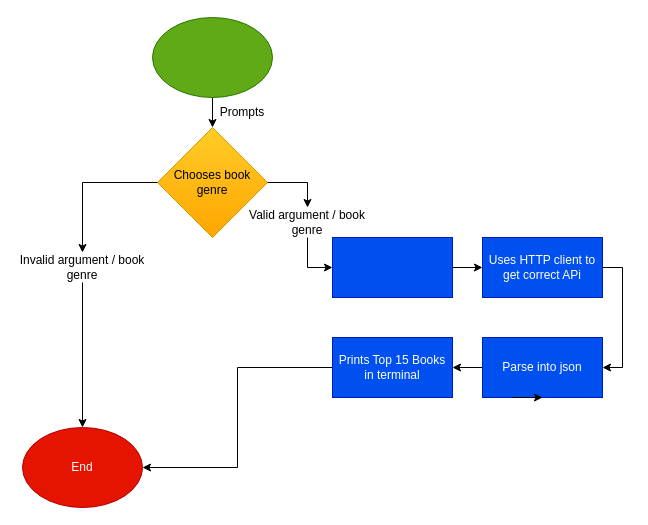
Image size: 648x525. Some labels were removed from this diagram. Each missing label, with the centre of its shape:
Reads user Input: (392,267)
Run Java Program In Terminal: (212,57)
